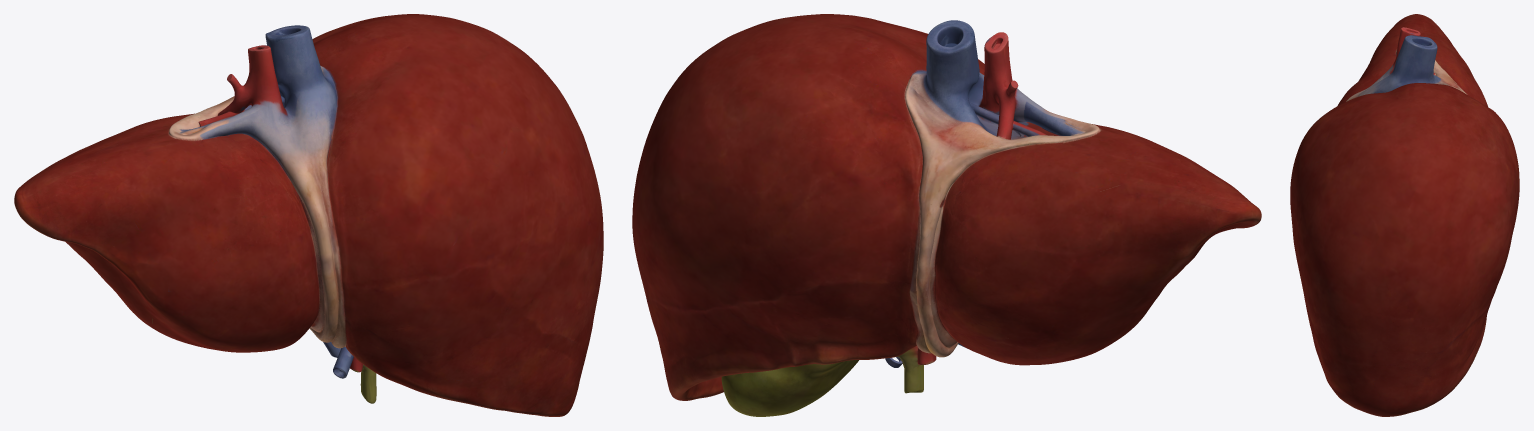
File: human-liver.glb
3 renders of one model, left to right at view 1: azimuth 30°, elevation 25°; view 2: azimuth 150°, elevation 25°; view 3: azimuth 270°, elevation 25°, orthographic. The views are drawn at different scales.
Parts seen in each view (by area): view 1: human-liver; view 2: human-liver; view 3: human-liver.
Boxes of the visible parts, x1,y1,x2,y2 form: human-liver: (14, 14, 603, 416); human-liver: (632, 14, 1261, 416); human-liver: (1290, 14, 1519, 416).
Size of the model in its own units: 0.25 by 0.1762 by 0.1241.
1 material, 1 textured.
